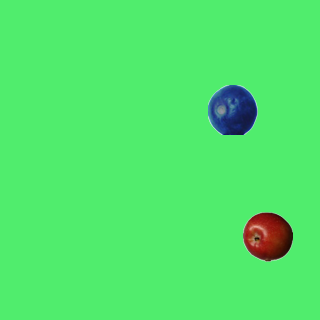Apple Braeburn: (242, 211, 292, 261)
Huckleberry: (207, 84, 257, 134)
